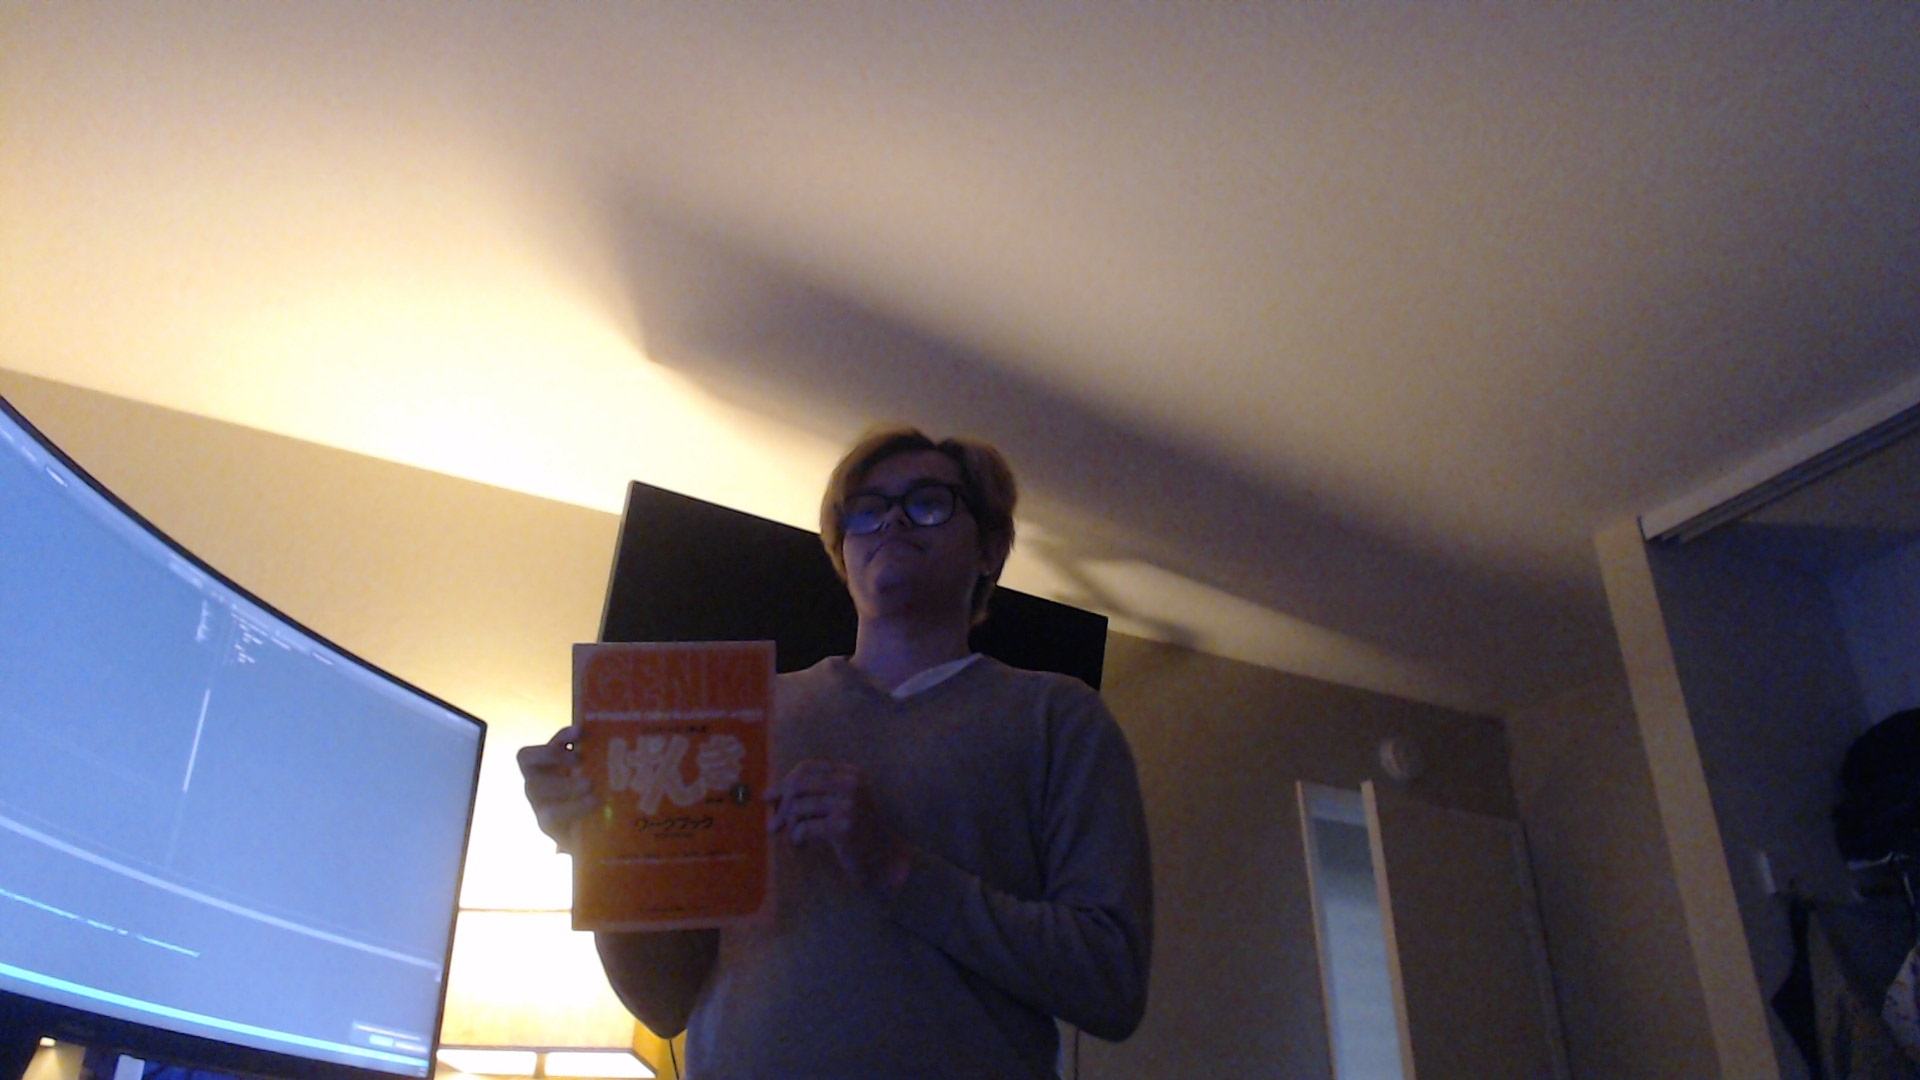book: (568, 642, 781, 935)
